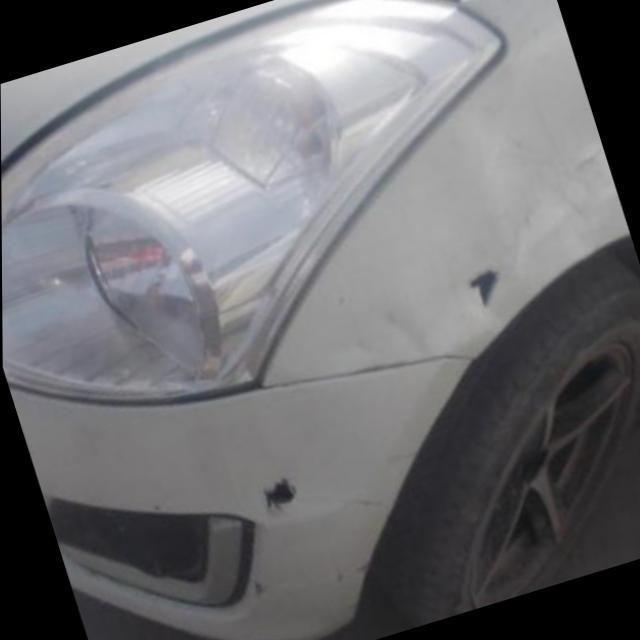crack: (258, 472, 300, 516), (465, 263, 500, 313)
